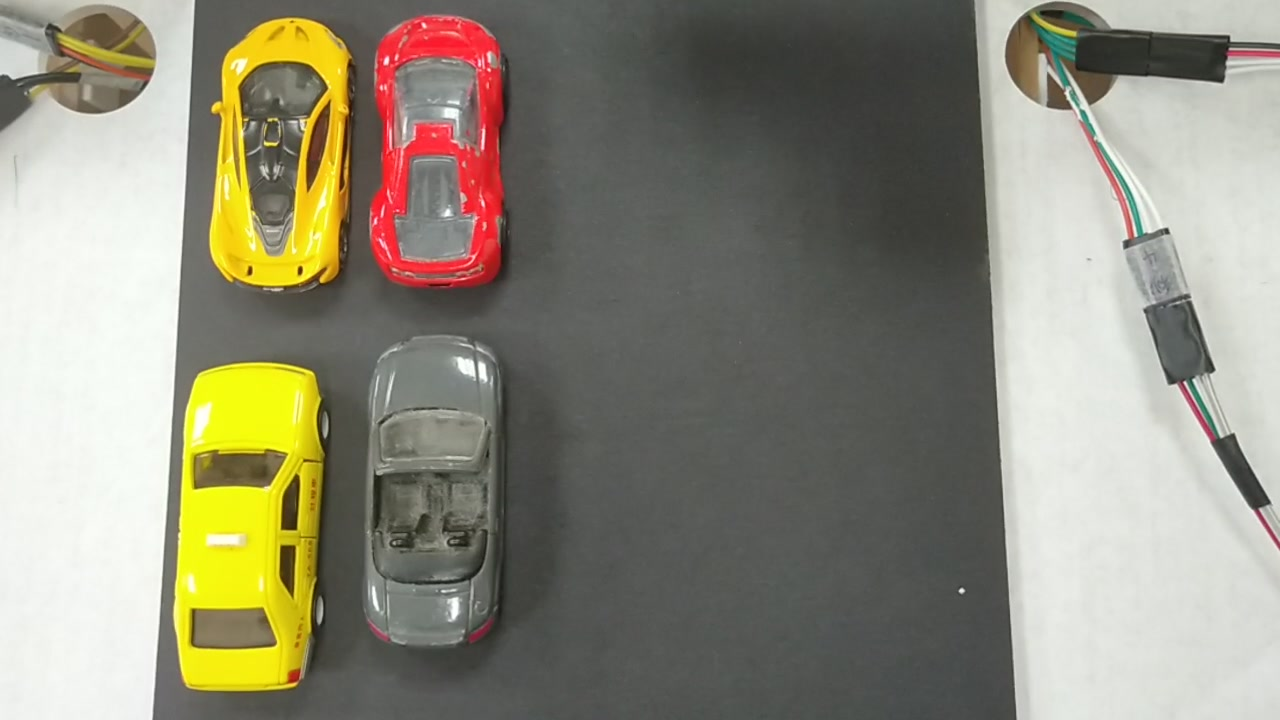car: (176, 362, 328, 686), (368, 336, 501, 636), (211, 23, 356, 287), (372, 18, 502, 284)
